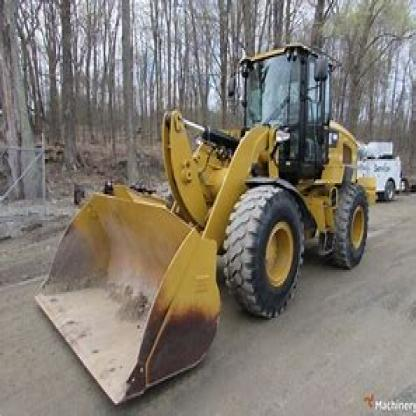bull_dozer/loader/grader: (22, 31, 377, 403)
